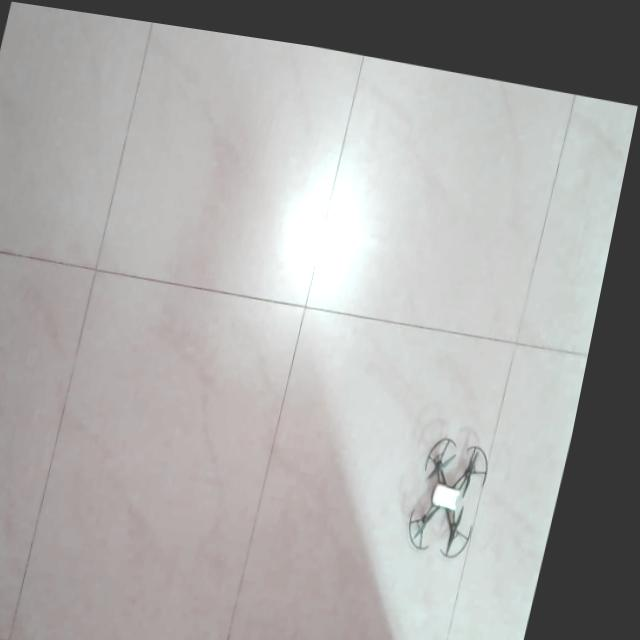drone: (426, 420, 504, 542)
